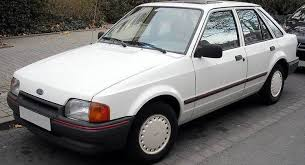car: (8, 2, 298, 156)
